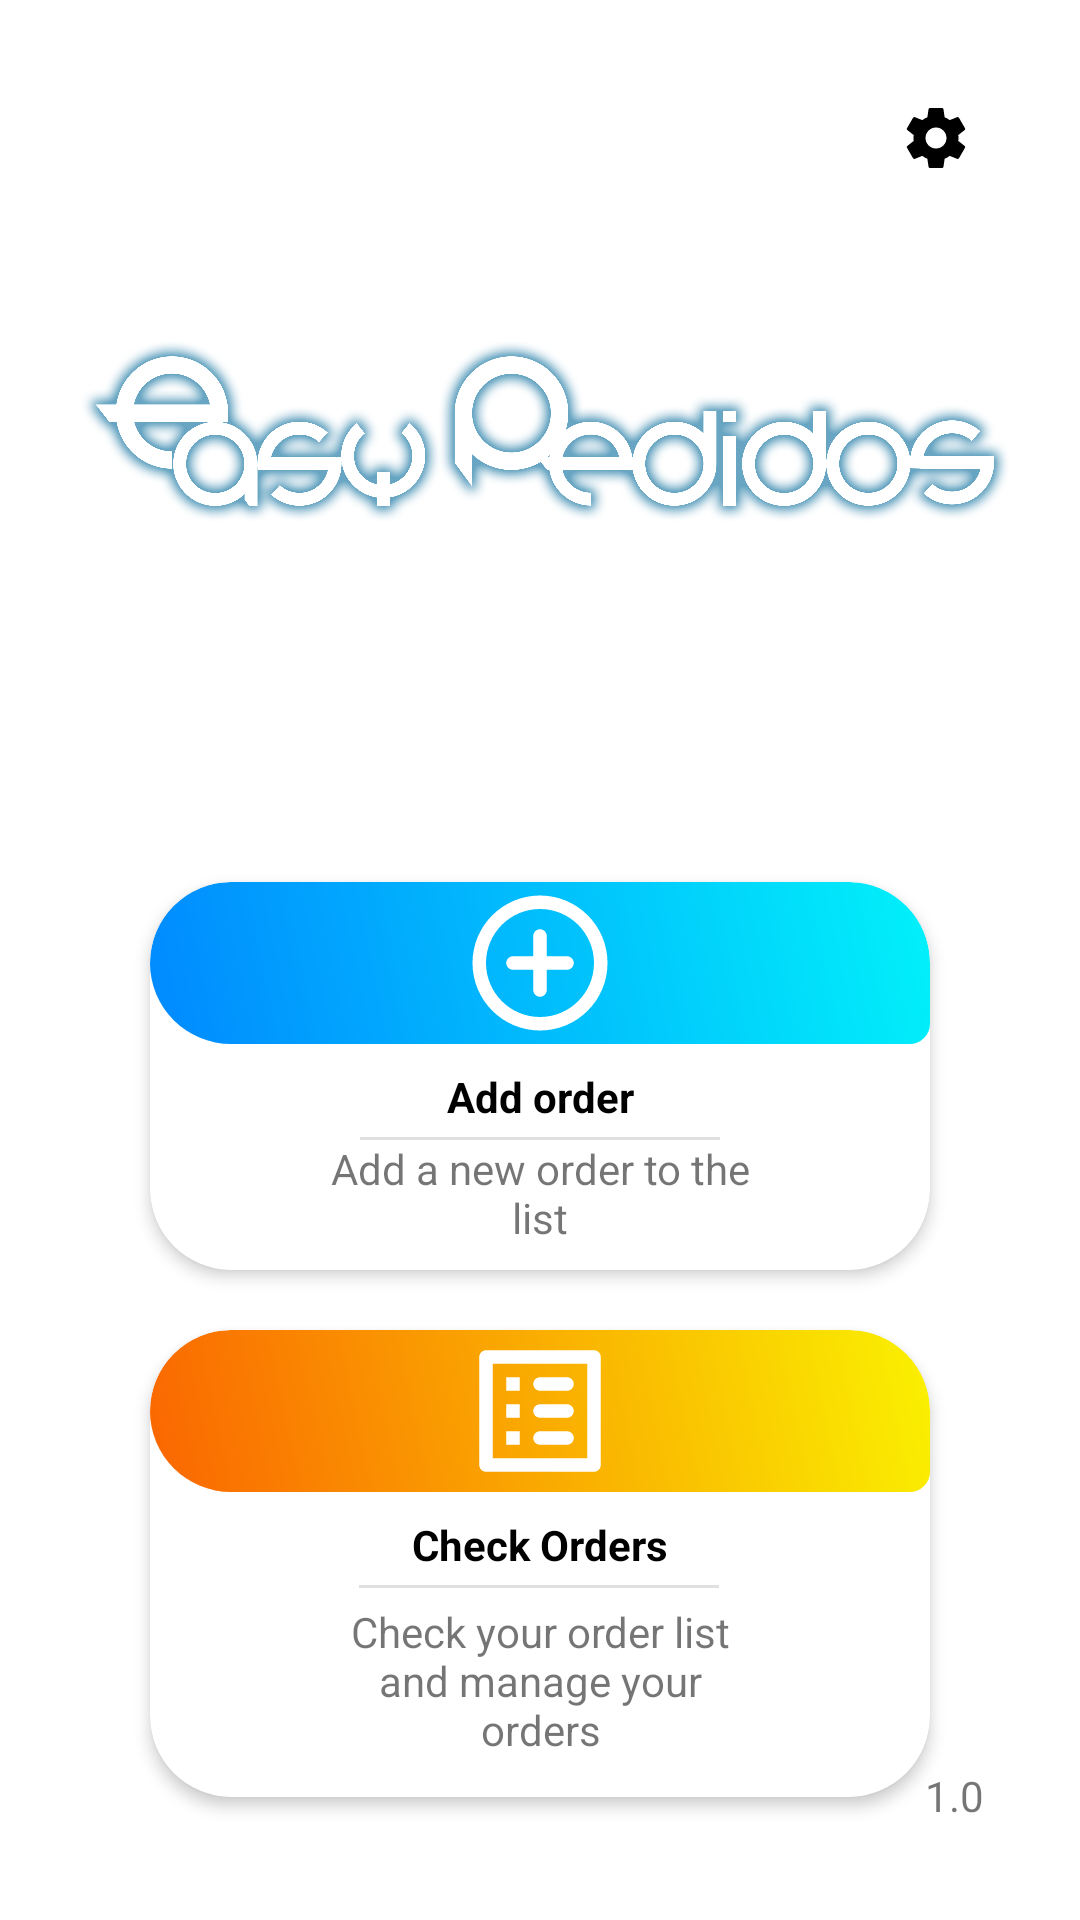

Named icons in this screenshot (1080x1920) and their bounding boxes, Rect(x1, y1, x2, y2):
settings negro: Rect(906, 108, 965, 168)
